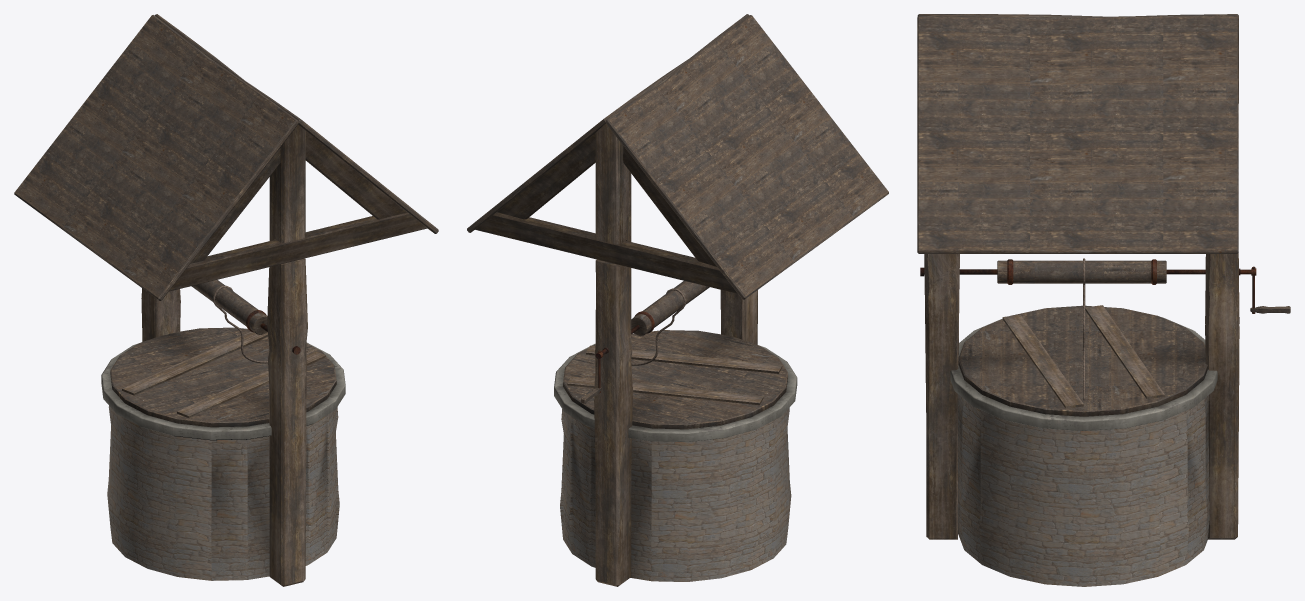
File: pr_well.glb
3 renders of one model, left to right at view 1: azimuth 30°, elevation 25°; view 2: azimuth 150°, elevation 25°; view 3: azimuth 270°, elevation 25°, orthographic. The views are drawn at different scales.
Parts seen in each view (by area): view 1: body|WoodPlanks, body|Wood, body|Stone, body|Concrete; view 2: body|WoodPlanks, body|Wood, body|Stone, body|Concrete; view 3: body|WoodPlanks, body|Stone, body|Wood, body|Concrete, body|RustyMetal.
Part boxes in pixels (left/top/right/bottom): body|WoodPlanks: left=14, top=14, right=438, bottom=427; body|Wood: left=122, top=124, right=427, bottom=586; body|Stone: left=107, top=406, right=339, bottom=580; body|Concrete: left=101, top=342, right=345, bottom=439; body|WoodPlanks: left=467, top=14, right=888, bottom=429; body|Wood: left=475, top=123, right=782, bottom=586; body|Stone: left=560, top=408, right=791, bottom=581; body|Concrete: left=554, top=343, right=797, bottom=442; body|WoodPlanks: left=917, top=14, right=1290, bottom=416; body|Stone: left=957, top=394, right=1209, bottom=586; body|Wood: left=924, top=253, right=1239, bottom=539; body|Concrete: left=950, top=317, right=1217, bottom=431; body|RustyMetal: left=920, top=259, right=1256, bottom=313.
Size of the model in its own units: 2 by 3.18 by 2.07.
Materials: 7 (6 with a texture image).
